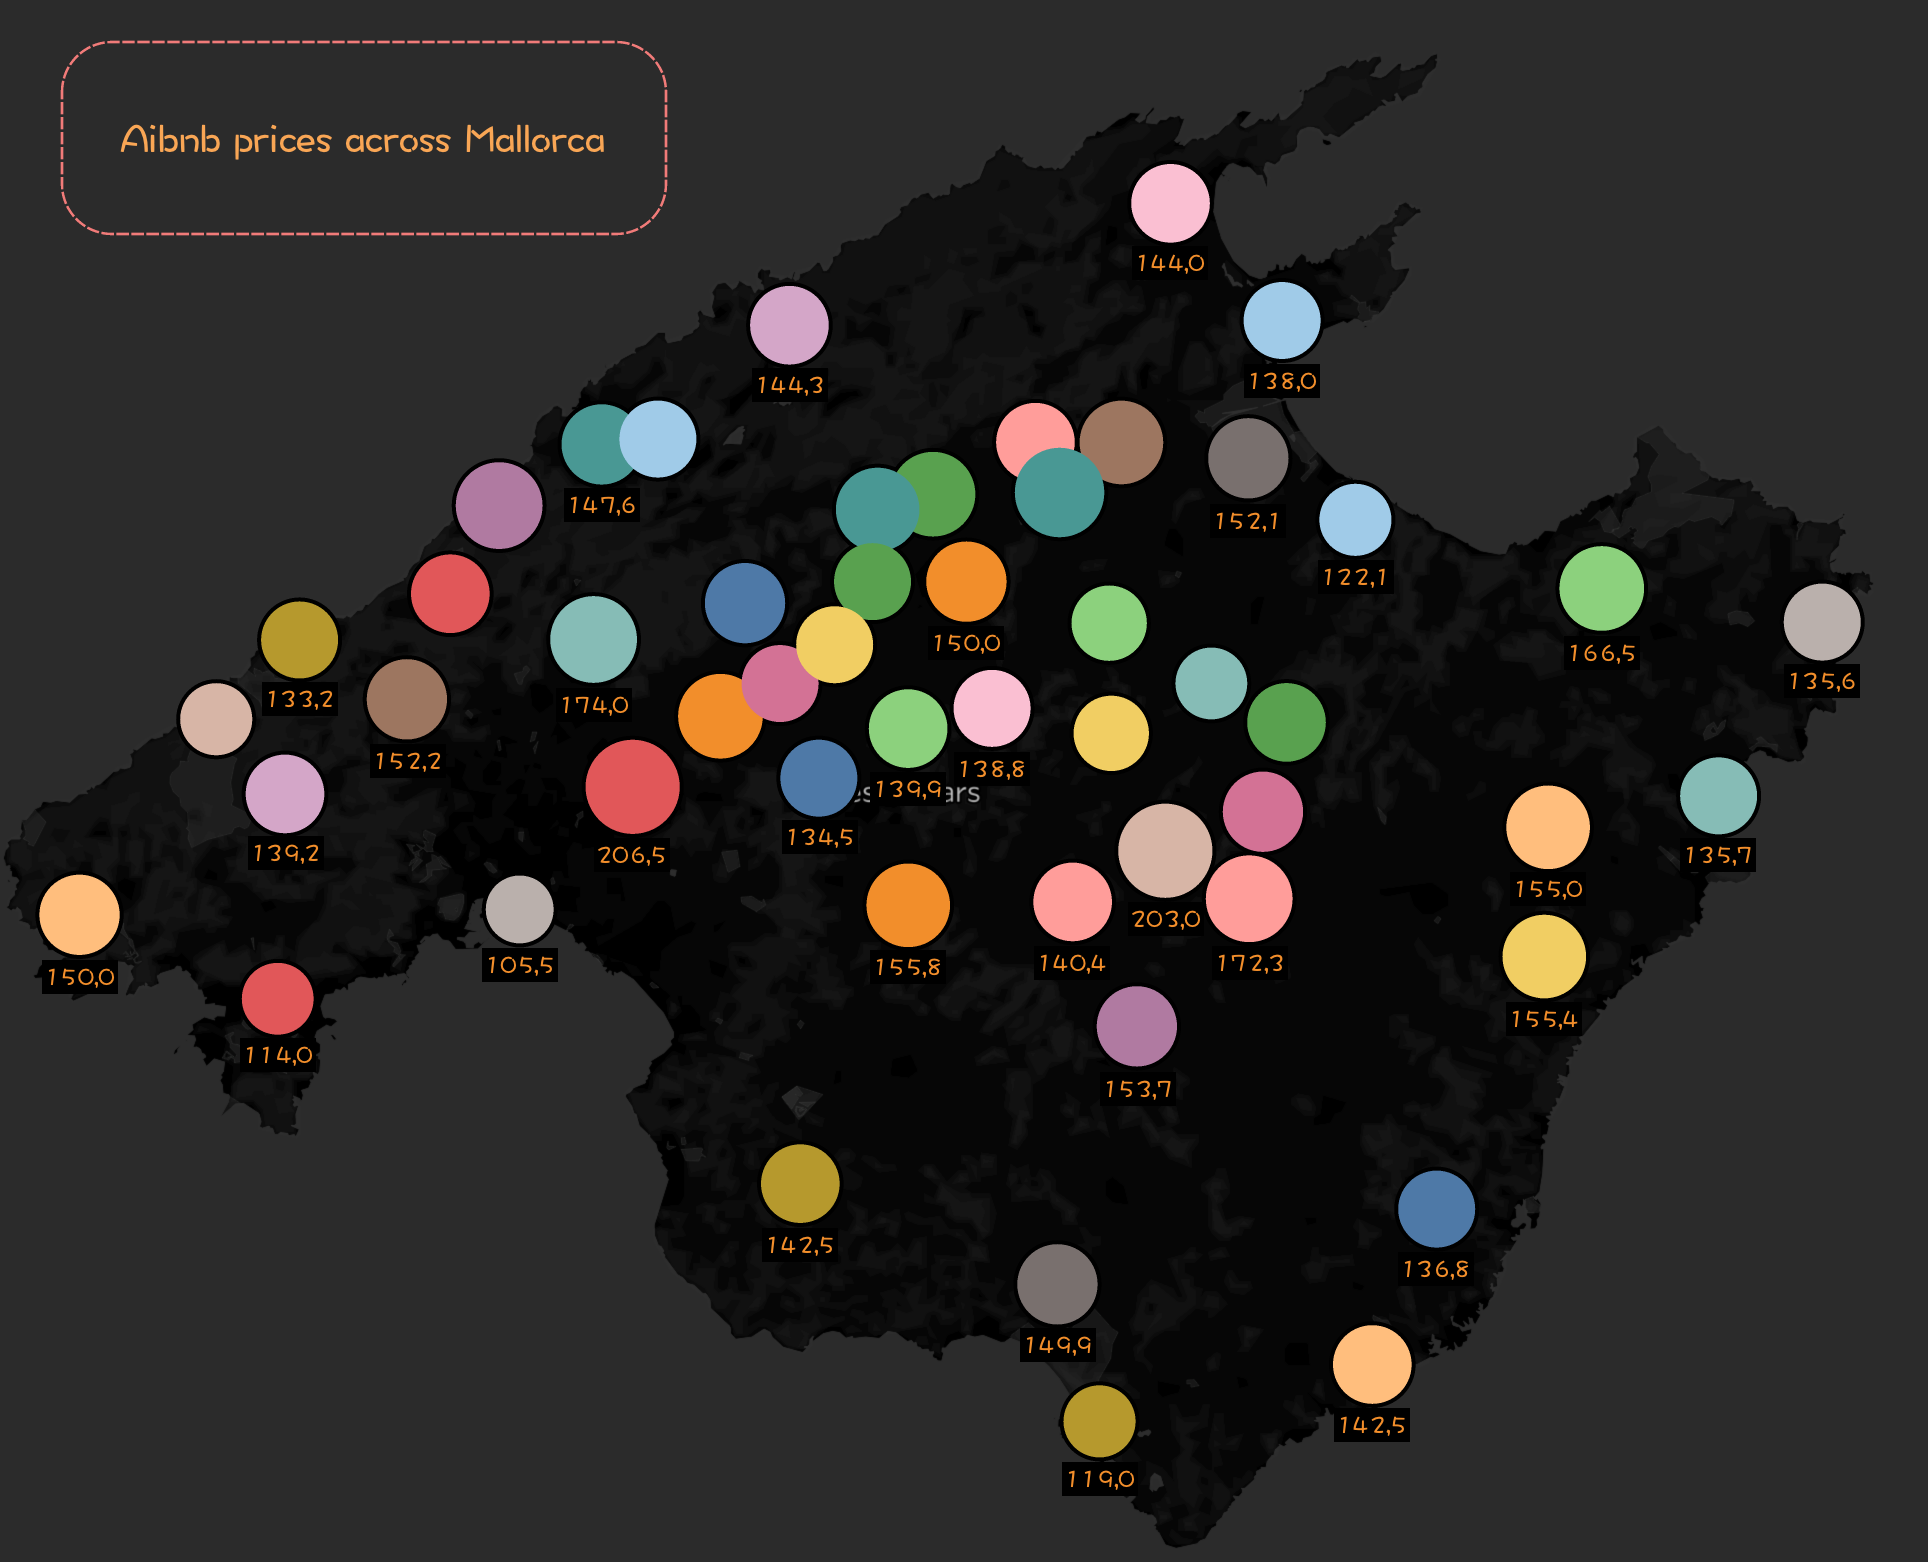

This screenshot's page, from the dashboard's own definition file:
{"tool":"tableau","page":{"name":"5. Correlations","canvas":[1000,800],"ordinal":3},"visuals":[{"type":"image","param":"/Users/jaimemac/Documents/Github Access/Mallorca_proyect/imagenes/correlation_re","box":[247,310,609,356]}]}

Visuals, with their boxes in screenshot pixels (x1, y1, x2, y2), scaled from the page's 1000x800 canvas onto the 1928x1562 screenshot:
image: bbox(476, 605, 1650, 1300)
